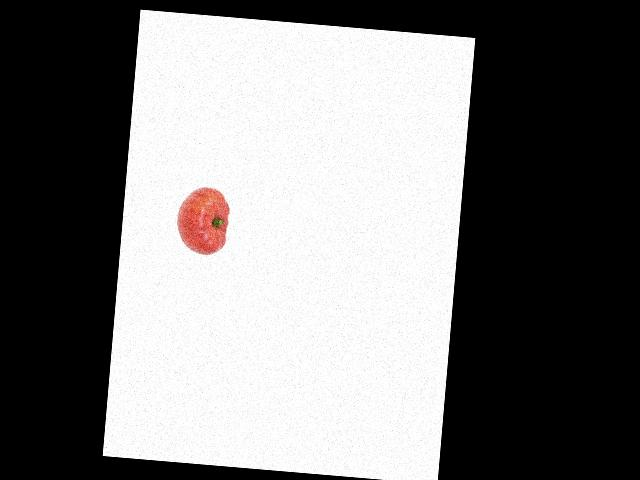tomato: (174, 184, 230, 255)
